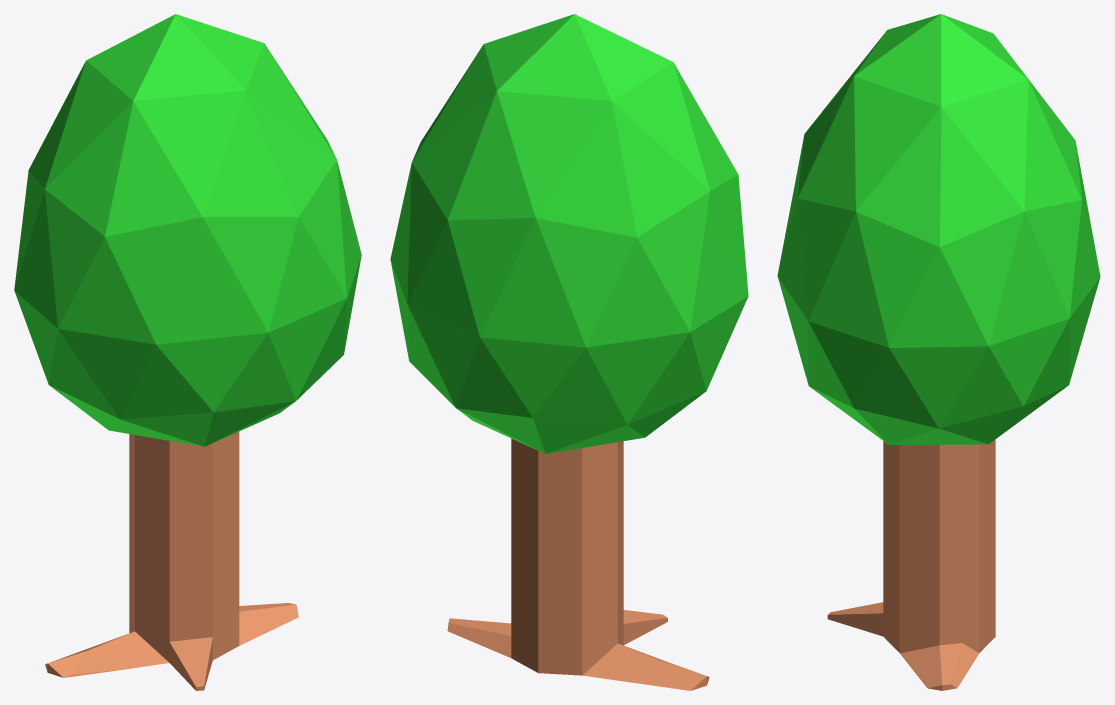
Rendered from tree_8.fbx.
3 renders of one model, left to right at view 1: azimuth 30°, elevation 25°; view 2: azimuth 150°, elevation 25°; view 3: azimuth 270°, elevation 25°, orthographic. The views are drawn at different scales.
Visible parts, largest first — view 1: Cylinder.006; view 2: Cylinder.006; view 3: Cylinder.006.
Part boxes in pixels (x1=…): Cylinder.006: x1=14, y1=14, x2=361, y2=690; Cylinder.006: x1=390, y1=14, x2=748, y2=690; Cylinder.006: x1=777, y1=14, x2=1100, y2=690.
Size of the model in its own units: 616 by 574 by 1215.
